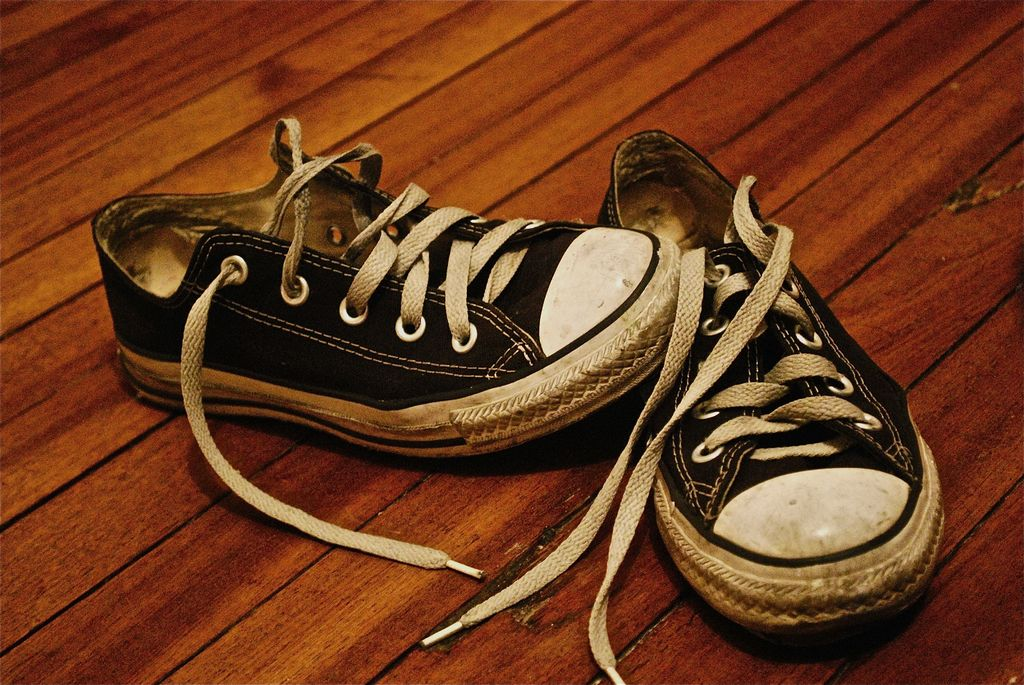Footwear: (413, 123, 954, 684), (102, 114, 733, 482)
